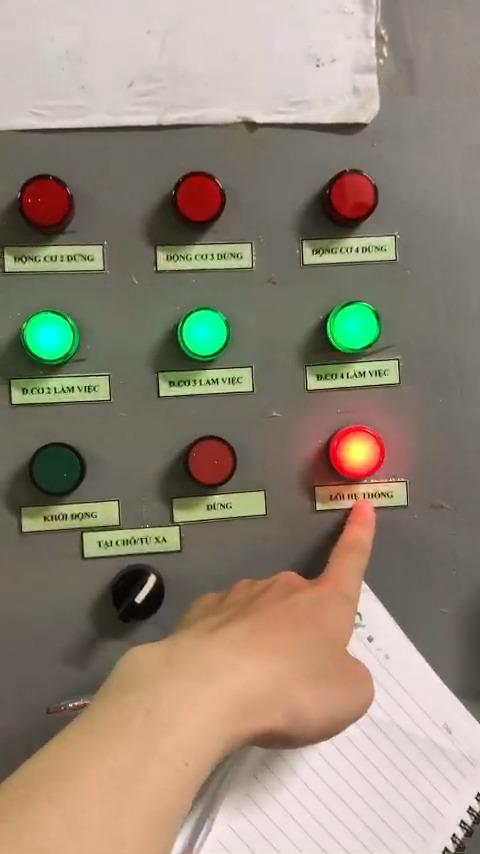led: (324, 424, 386, 484), (31, 441, 90, 501), (166, 168, 227, 226), (186, 431, 243, 491), (16, 175, 75, 231), (21, 311, 75, 370), (324, 170, 380, 225), (322, 299, 378, 354), (173, 305, 229, 360)
twist: (107, 561, 165, 625)
